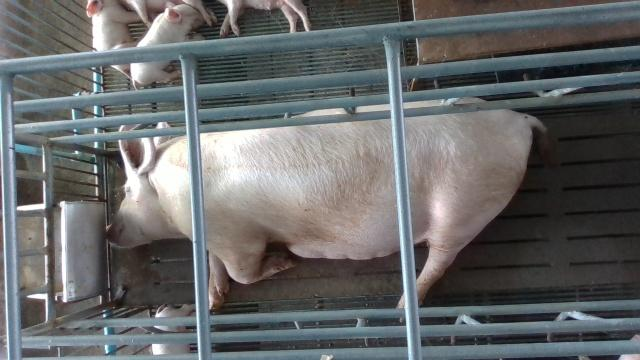piglet: (130, 2, 207, 91), (87, 0, 143, 81), (220, 0, 309, 37), (151, 303, 196, 355)
sow-sleep: (105, 97, 552, 321)
